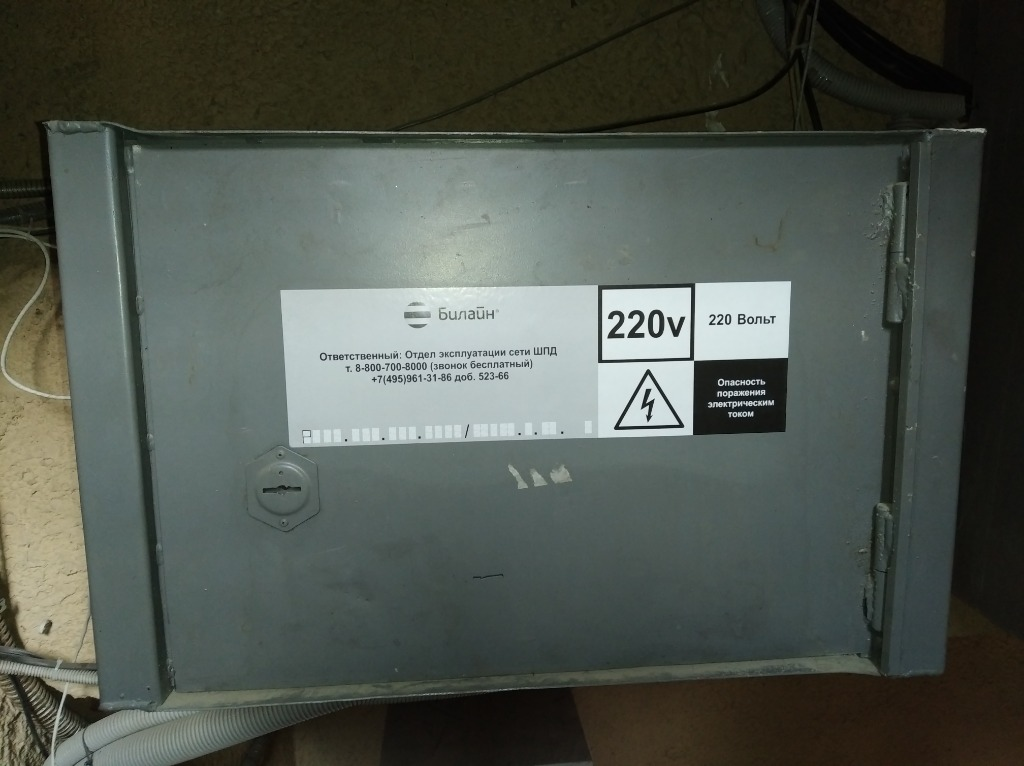e2-6u: (30, 108, 994, 717)
